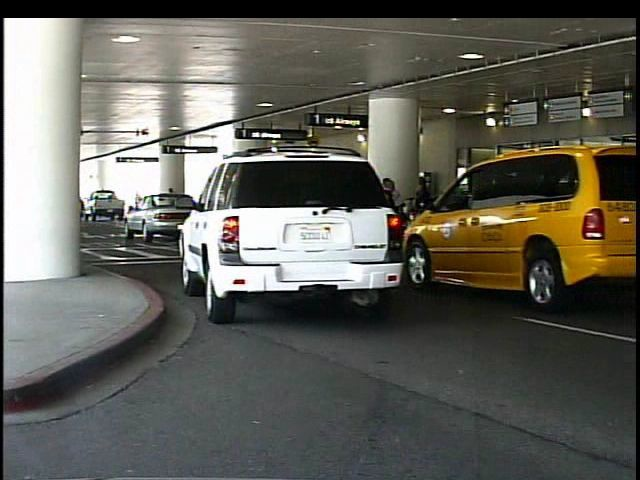person: (528, 168, 558, 261)
